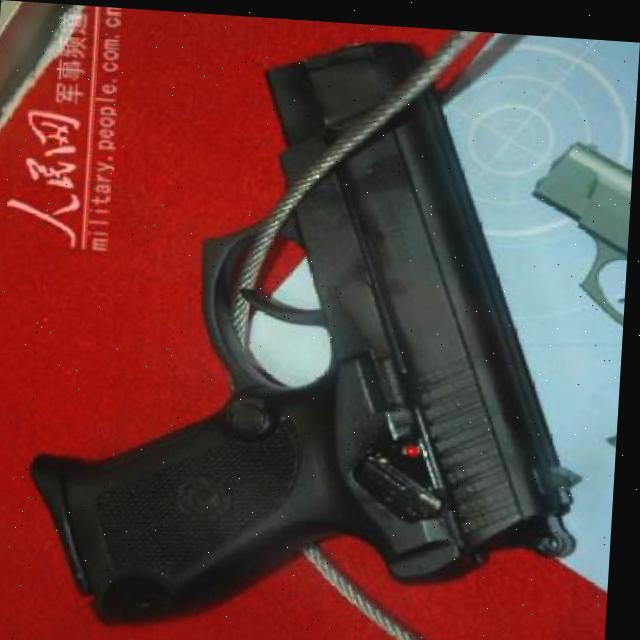gun: (29, 16, 608, 640)
